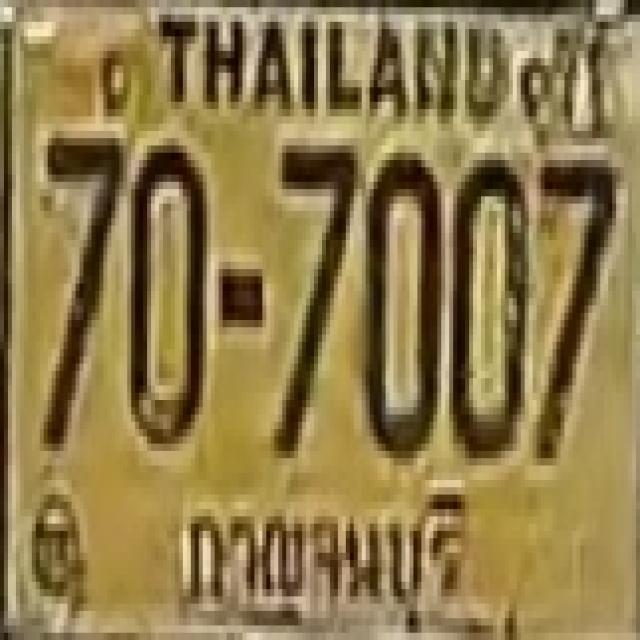0: (360, 145, 439, 451), (445, 153, 525, 451), (127, 138, 203, 444)
7: (274, 138, 354, 451), (42, 131, 121, 444), (533, 156, 612, 454)
KRI: (178, 468, 468, 634)
